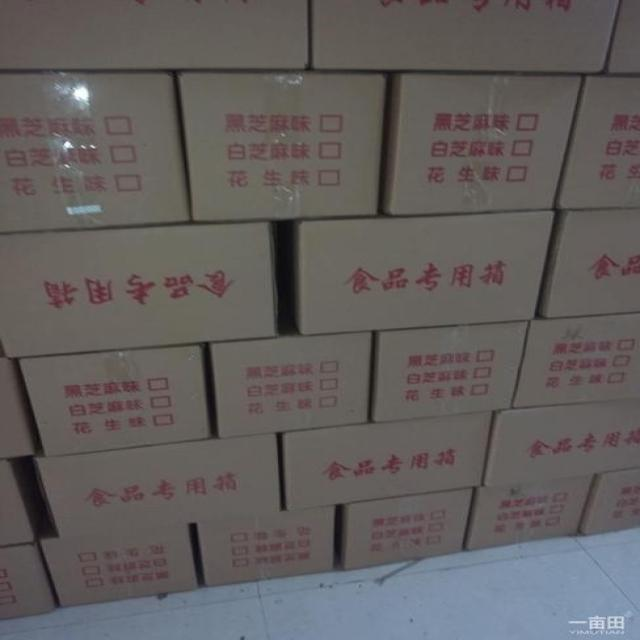box: (0, 220, 279, 358), (290, 210, 557, 335), (177, 72, 387, 224), (0, 71, 191, 234), (382, 71, 581, 217), (34, 432, 281, 540), (311, 0, 622, 75), (17, 343, 214, 456), (279, 411, 493, 513), (0, 1, 310, 71), (207, 331, 372, 439), (372, 320, 529, 423), (38, 520, 198, 608), (484, 397, 640, 484), (336, 486, 477, 573), (514, 312, 640, 409), (193, 508, 336, 588), (557, 75, 640, 210), (539, 208, 640, 318), (467, 474, 595, 551), (0, 456, 51, 547), (0, 543, 58, 619), (578, 467, 640, 536), (0, 358, 39, 459), (605, 1, 640, 75)
